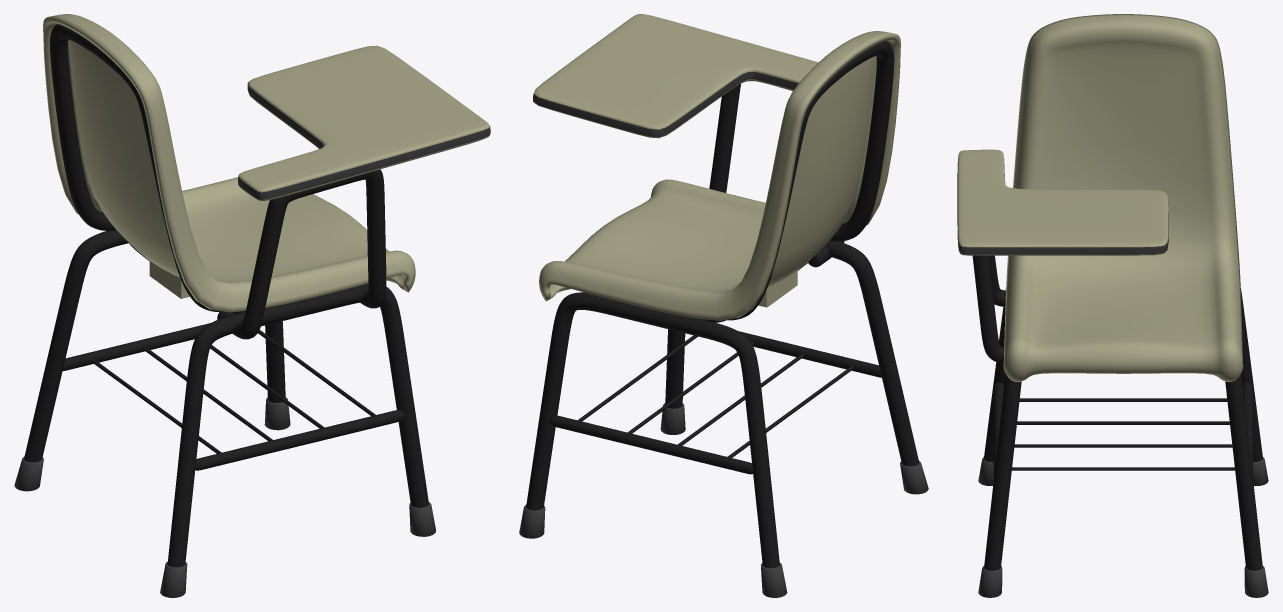
Rendered from school_chair.glb.
3 renders of one model, left to right at view 1: azimuth 30°, elevation 25°; view 2: azimuth 150°, elevation 25°; view 3: azimuth 270°, elevation 25°, orthographic. The views are drawn at different scales.
Visible parts, largest first — view 1: plastic seat_6, writing table_11, legs_0, table support pipes_12, back support pipes_5, side pipes legs_1, small pipes under seat.001_13, back feet_8, front feet_7, seat fasten block_9; view 2: plastic seat_6, writing table_11, legs_0, back support pipes_5, side pipes legs_1, small pipes under seat.001_13, table support pipes_12, back feet_8, front feet_7, seat fasten block_9; view 3: plastic seat_6, writing table_11, legs_0, small pipes under seat.001_13, table support pipes_12, front feet_7, side pipes legs_1, back feet_8.
Part boxes in pixels (x1,y1,x2,y2): plastic seat_6: (43, 14, 415, 312); writing table_11: (238, 45, 490, 200); legs_0: (24, 230, 428, 567); table support pipes_12: (217, 169, 386, 339); back support pipes_5: (50, 24, 224, 311); side pipes legs_1: (62, 323, 404, 470); small pipes under seat.001_13: (91, 330, 375, 453); back feet_8: (14, 456, 187, 597); front feet_7: (264, 397, 435, 536); seat fasten block_9: (149, 261, 189, 298); plastic seat_6: (539, 31, 900, 320); writing table_11: (533, 14, 818, 138); legs_0: (526, 241, 919, 568); back support pipes_5: (725, 40, 894, 320); side pipes legs_1: (549, 331, 881, 474); small pipes under seat.001_13: (578, 335, 853, 457); table support pipes_12: (709, 83, 844, 267); back feet_8: (761, 461, 928, 597); front feet_7: (519, 403, 685, 538); seat fasten block_9: (758, 270, 797, 307); plastic seat_6: (1003, 14, 1243, 381); writing table_11: (957, 149, 1168, 255); legs_0: (984, 288, 1262, 570); small pipes under seat.001_13: (1012, 398, 1234, 470); table support pipes_12: (972, 255, 1005, 363); front feet_7: (978, 566, 1268, 597); side pipes legs_1: (993, 382, 1252, 476); back feet_8: (978, 457, 1268, 485).
Size of the model in its own units: 2.8 by 4.29 by 2.61.
